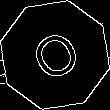O_SE: (23, 22, 87, 88)
